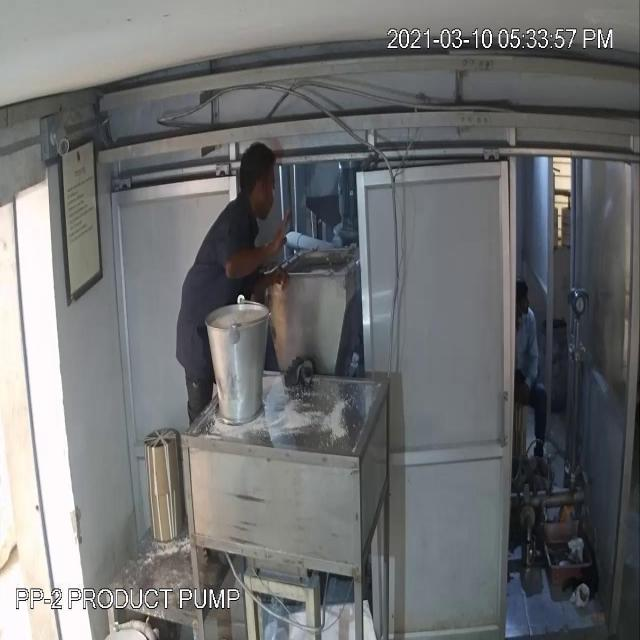No_Gloves: (219, 210, 299, 287)
